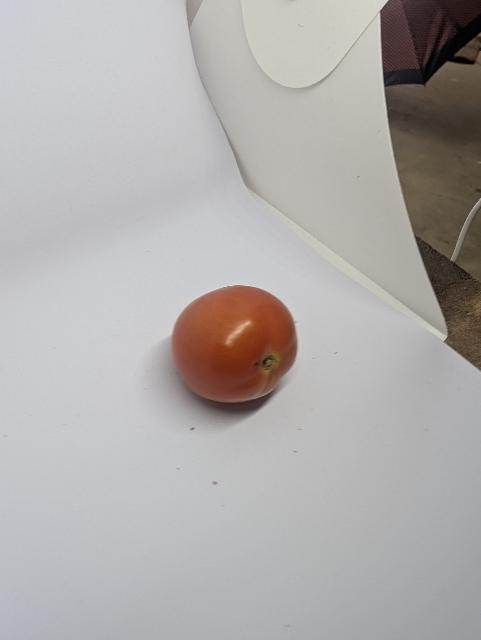red: (166, 282, 305, 411)
